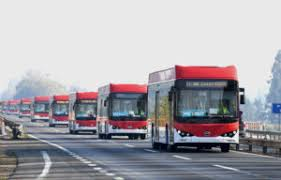bus: (143, 68, 244, 152), (94, 82, 152, 141), (64, 88, 97, 137), (48, 91, 69, 131), (28, 89, 47, 124), (16, 95, 30, 120)
